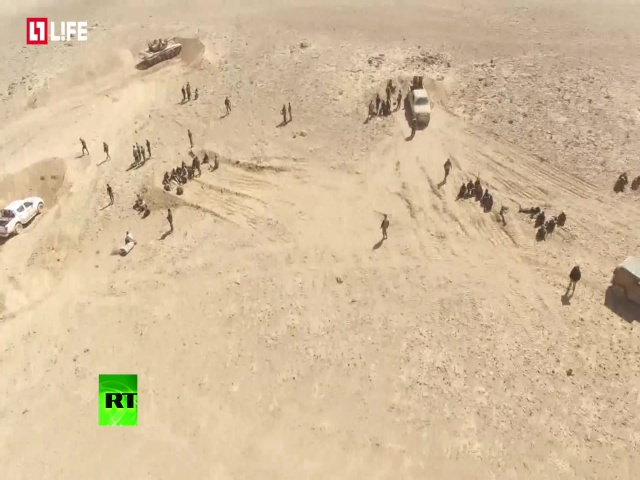person: (567, 264, 581, 297), (440, 157, 454, 184), (379, 213, 391, 241), (78, 136, 91, 158), (482, 187, 493, 211), (165, 208, 175, 232), (106, 183, 115, 206), (186, 128, 195, 149), (131, 144, 139, 167), (367, 98, 376, 118), (223, 95, 232, 115), (194, 156, 203, 176), (102, 141, 110, 163), (466, 178, 475, 197), (123, 230, 136, 243), (410, 117, 418, 138), (280, 102, 287, 125), (395, 88, 402, 111), (145, 139, 153, 159), (140, 145, 147, 164), (185, 80, 191, 102), (213, 153, 220, 171), (287, 101, 293, 120), (181, 85, 186, 103), (194, 90, 200, 102)
vehicle: (1, 195, 45, 239), (608, 253, 640, 305), (138, 38, 183, 65), (407, 75, 431, 124)
